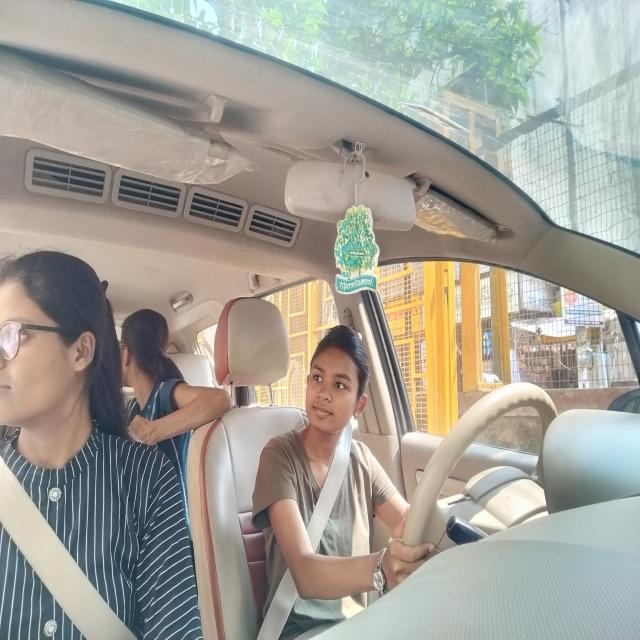LeftRight: (303, 319, 368, 440)
person: (1, 248, 129, 435), (120, 304, 178, 394)
